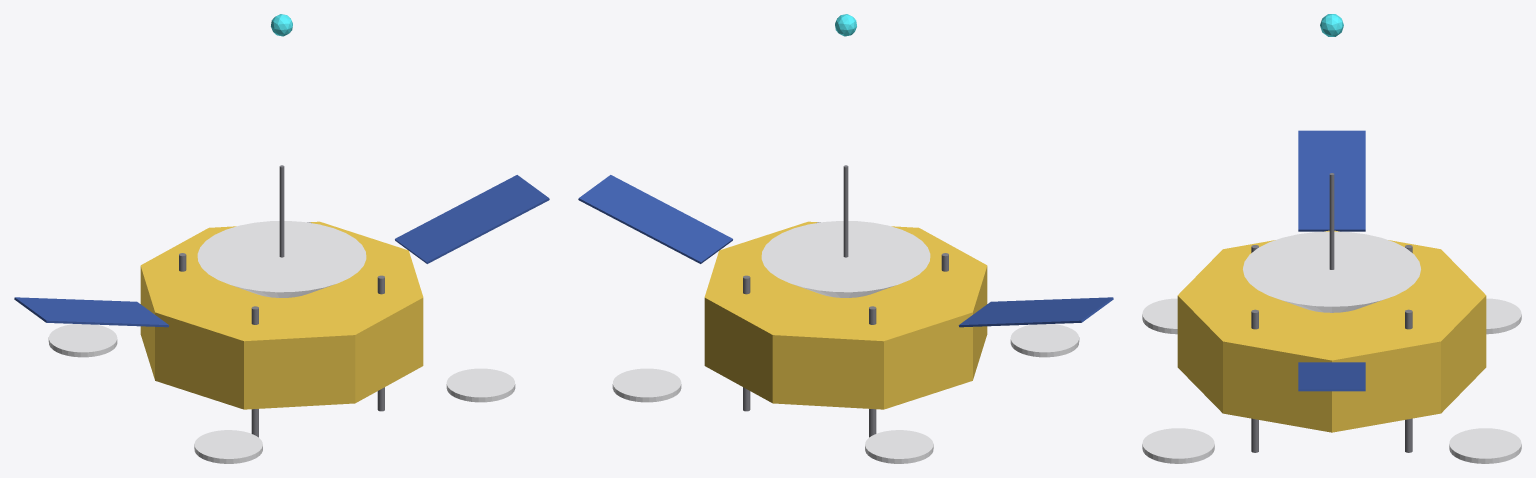
Rendered from lunar_drop_station.glb.
3 renders of one model, left to right at view 1: azimuth 30°, elevation 25°; view 2: azimuth 150°, elevation 25°; view 3: azimuth 270°, elevation 25°, orthographic. The views are drawn at different scales.
Parts seen in each view (by area): view 1: DescentStage_Core, Sample_Drop_Hopper, SolarArray_Wing_1, SolarArray_Wing_0, Footpad_315, Footpad_225, Footpad_135, Telemetry_Mast; view 2: DescentStage_Core, Sample_Drop_Hopper, SolarArray_Wing_1, SolarArray_Wing_0, Footpad_45, Footpad_135, Footpad_225, Telemetry_Mast; view 3: DescentStage_Core, Sample_Drop_Hopper, SolarArray_Wing_0, Footpad_315, Footpad_45, SolarArray_Wing_1, Footpad_135, Footpad_225, Telemetry_Mast, Beacon_Strobe_Orb, LandingGear_Strut_315, LandingGear_Strut_45.
Part boxes in pixels (bbox=[...]): DescentStage_Core: bbox=[140, 221, 423, 409]; Sample_Drop_Hopper: bbox=[197, 221, 366, 297]; SolarArray_Wing_1: bbox=[395, 175, 549, 263]; SolarArray_Wing_0: bbox=[14, 297, 169, 327]; Footpad_315: bbox=[446, 368, 515, 402]; Footpad_225: bbox=[194, 430, 262, 463]; Footpad_135: bbox=[48, 324, 117, 357]; Telemetry_Mast: bbox=[279, 165, 284, 257]; DescentStage_Core: bbox=[704, 221, 987, 409]; Sample_Drop_Hopper: bbox=[761, 221, 930, 297]; SolarArray_Wing_1: bbox=[578, 175, 732, 263]; SolarArray_Wing_0: bbox=[958, 297, 1113, 327]; Footpad_45: bbox=[612, 368, 681, 402]; Footpad_135: bbox=[865, 430, 933, 463]; Footpad_225: bbox=[1010, 324, 1079, 357]; Telemetry_Mast: bbox=[843, 165, 848, 257]; DescentStage_Core: bbox=[1177, 230, 1486, 432]; Sample_Drop_Hopper: bbox=[1243, 231, 1420, 312]; SolarArray_Wing_0: bbox=[1298, 130, 1365, 231]; Footpad_315: bbox=[1142, 428, 1214, 463]; Footpad_45: bbox=[1449, 428, 1521, 463]; SolarArray_Wing_1: bbox=[1298, 362, 1365, 391]; Footpad_135: bbox=[1486, 298, 1521, 334]; Footpad_225: bbox=[1142, 298, 1177, 334]; Telemetry_Mast: bbox=[1329, 173, 1334, 269]; Beacon_Strobe_Orb: bbox=[1320, 14, 1343, 36]; LandingGear_Strut_315: bbox=[1251, 309, 1258, 452]; LandingGear_Strut_45: bbox=[1405, 309, 1412, 452].
Bounding box in the file's own units: 12.7 × 9.25 × 7.86.
